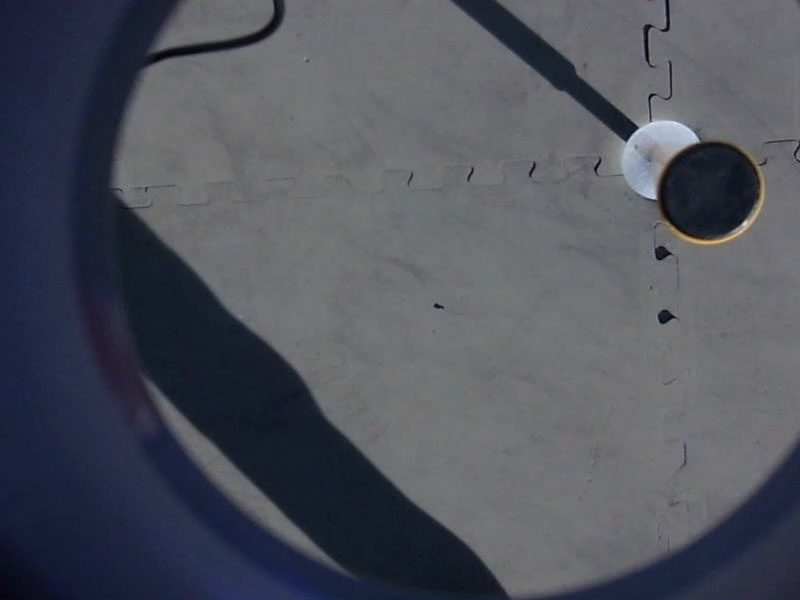tip: (654, 136, 770, 249)
